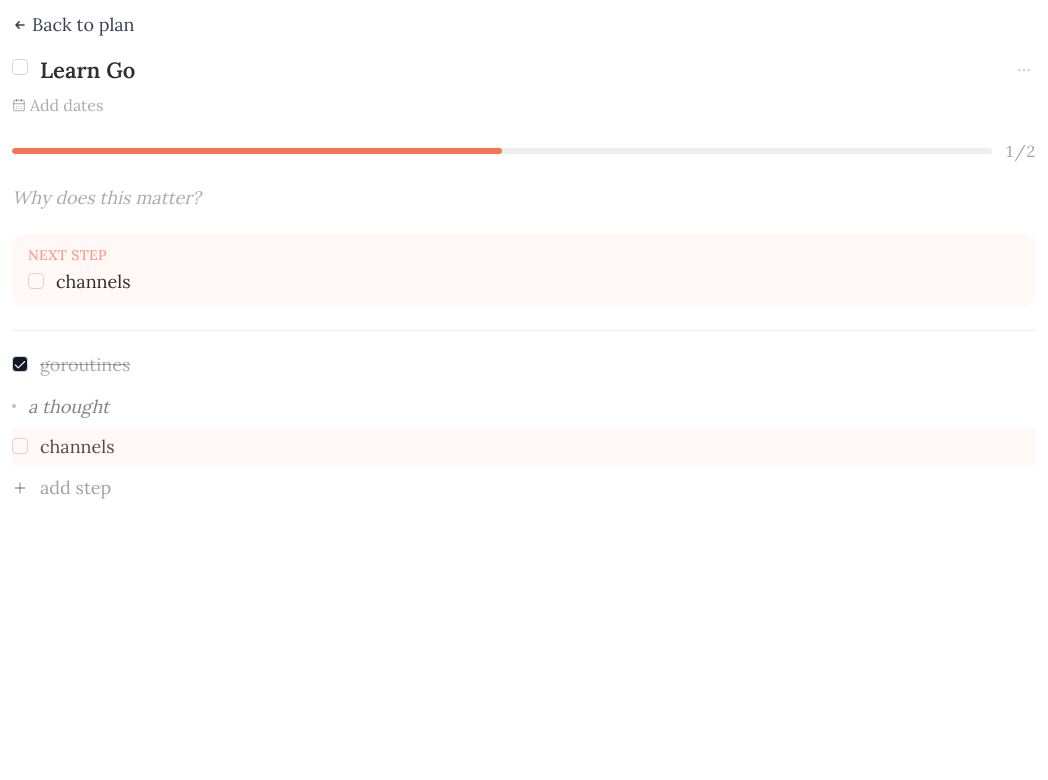
Scenario: MilestonePage steps and next step › add step (R31, G9) › should add a task step at the end, clear the input and keep focus
Click the button "add step": (62, 488) x1=12 y1=469 x2=111 y2=507
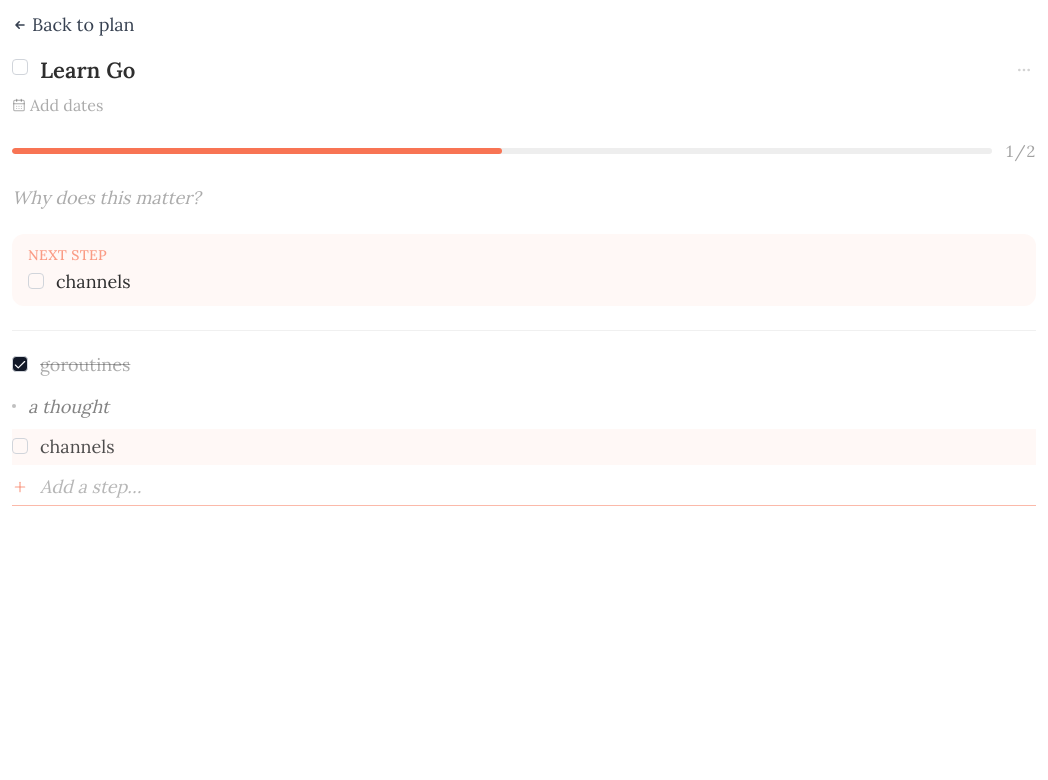
In the field named "Add a step to Learn Go": (538, 487) x1=40 y1=475 x2=1036 y2=499, type " interfaces "
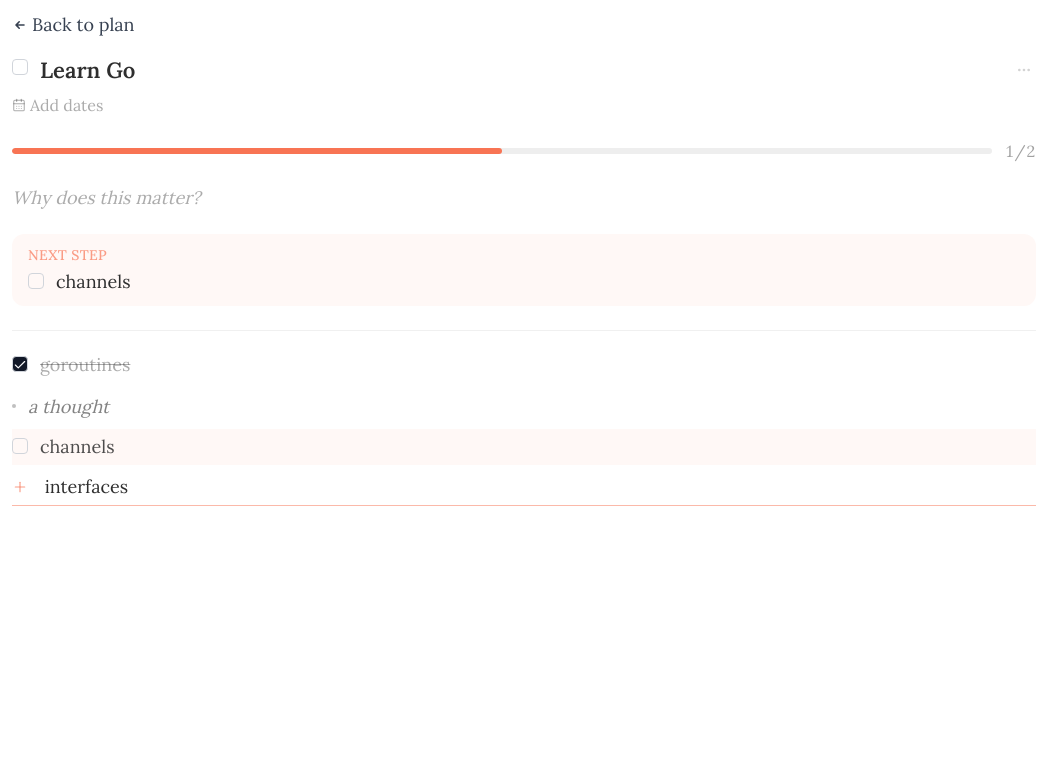
Press Enter in the field named "Add a step to Learn Go", box x1=40 y1=475 x2=1036 y2=499
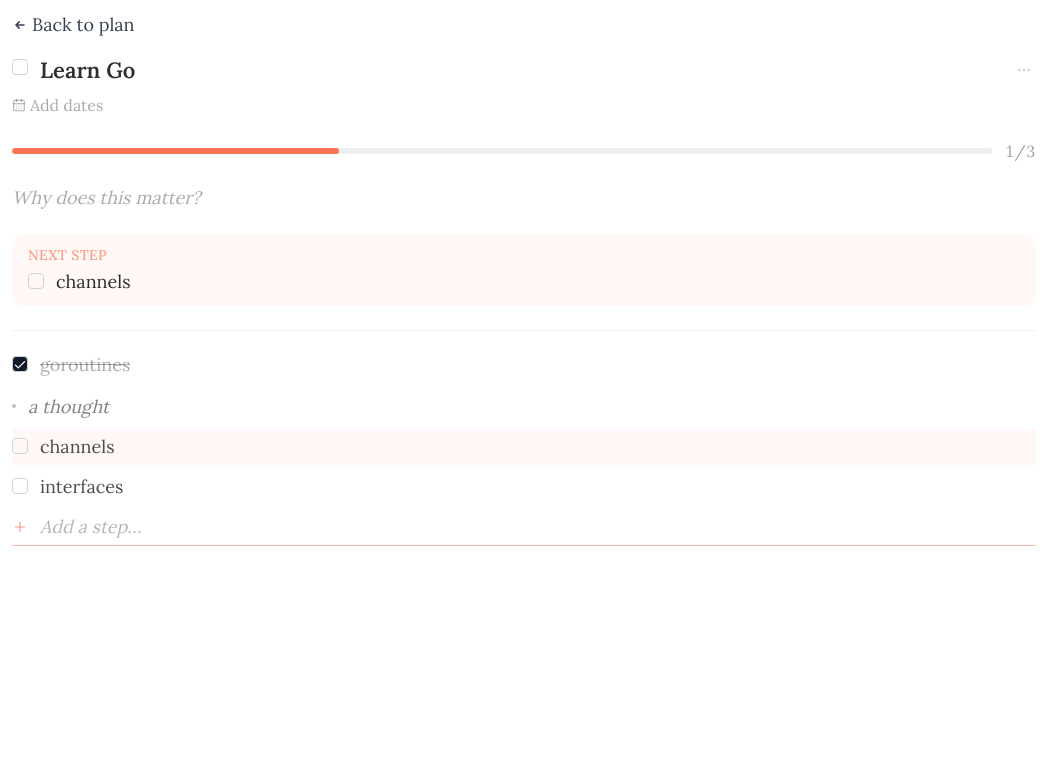
Expected: the button "interfaces" is shown, x1=40 y1=475 x2=1036 y2=499
Expected: the text "1/3" is shown, x1=1004 y1=140 x2=1036 y2=162
Expected: the field named "Add a step to Learn Go" is empty, x1=40 y1=515 x2=1036 y2=539
